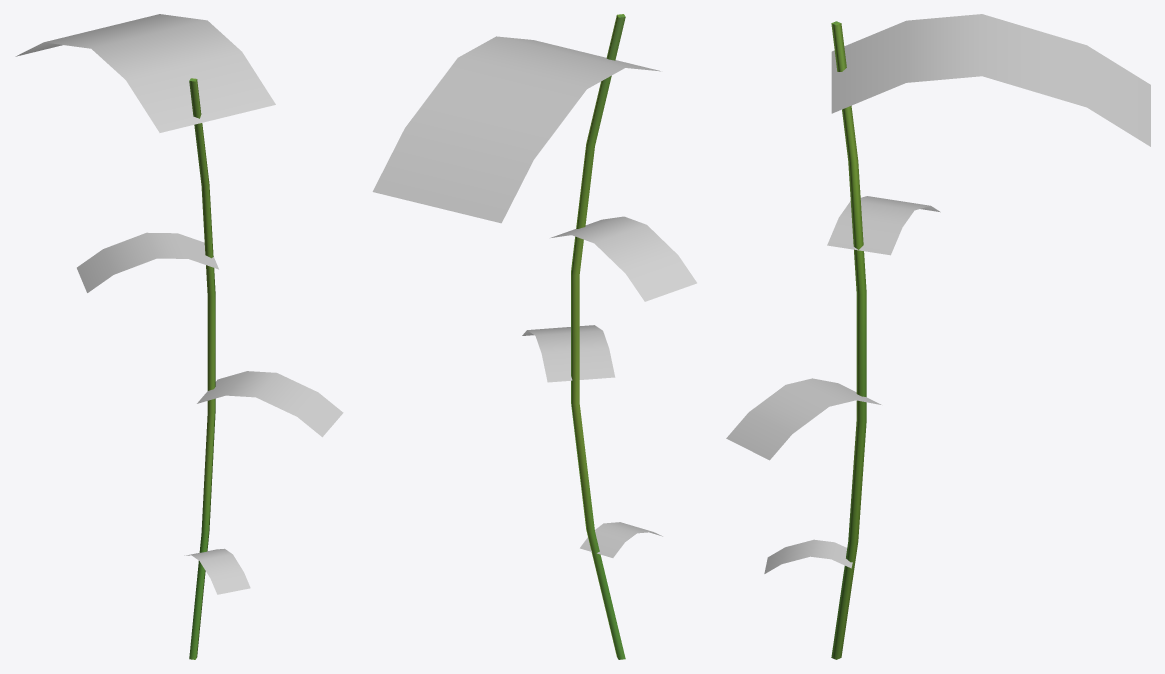
Rendered from SM_groundplant_01.fbx.
The picture shows the model from 3 angles, left to right: view 1: azimuth 30°, elevation 25°; view 2: azimuth 150°, elevation 25°; view 3: azimuth 270°, elevation 25°; orthographic projection. The views are drawn at different scales.
Parts seen in each view (by area): view 1: SM_groundplant_01; view 2: SM_groundplant_01; view 3: SM_groundplant_01.
Part boxes in pixels (<box>): SM_groundplant_01: <box>15,14,343,659</box>; SM_groundplant_01: <box>372,14,696,659</box>; SM_groundplant_01: <box>726,14,1150,659</box>.
Size of the model in its own units: 20.16 by 53.76 by 32.61.
